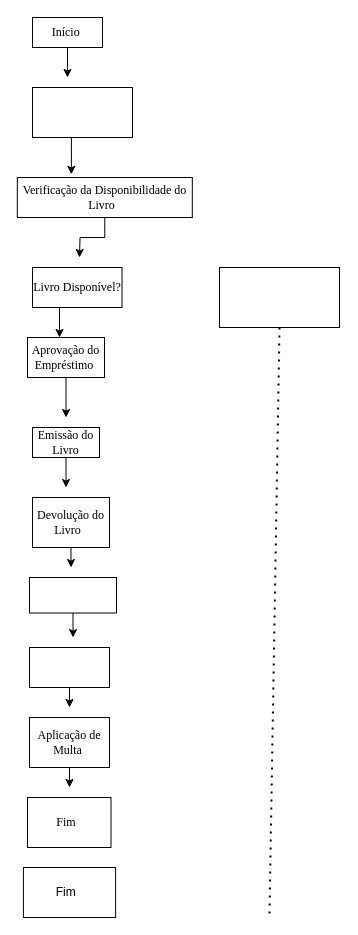
Some shapes in this 358 by 935 pixel diagram are drawn without their labels. Each missing label, with the centre of its shape:
"Livro Não Disponível" belongs at (x=279, y=297).
"Multa Aplicável?" belongs at (x=69, y=667).
"Solicitação de Empréstimo" belongs at (x=82, y=112).
"Verificação de Multa" belongs at (x=72, y=594).
